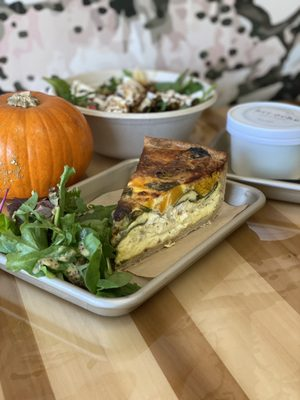soup: (111, 137, 229, 265), (0, 90, 94, 221)
sushi: (0, 122, 273, 318), (38, 66, 219, 160), (225, 101, 300, 182)
